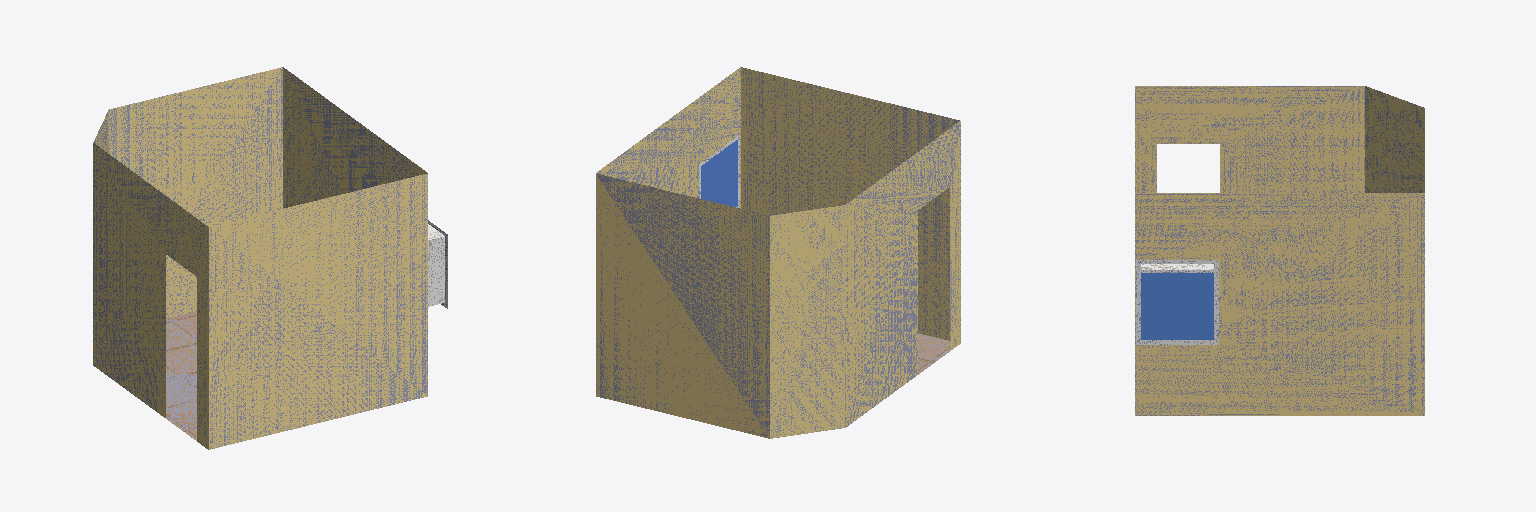
The picture shows the model from 3 angles: view 1: azimuth 30°, elevation 25°; view 2: azimuth 150°, elevation 25°; view 3: azimuth 270°, elevation 25°; orthographic projection.
Parts seen in each view (by area): view 1: Mesh5 DES012 Model, Mesh1 Group1 DES012 Model; view 2: Mesh5 DES012 Model, Mesh1 Group1 DES012 Model; view 3: Mesh5 DES012 Model, Mesh1 Group1 DES012 Model.
Boxes of the visible parts, box(x1,y1,x2,y2) form: Mesh5 DES012 Model: box(93, 67, 427, 449); Mesh1 Group1 DES012 Model: box(428, 220, 447, 308); Mesh5 DES012 Model: box(596, 67, 960, 438); Mesh1 Group1 DES012 Model: box(699, 135, 739, 207); Mesh5 DES012 Model: box(1135, 86, 1424, 415); Mesh1 Group1 DES012 Model: box(1136, 260, 1218, 344).
Size of the model in its own units: 3.38 by 3 by 3.54.
Materials: 6 (1 with a texture image).